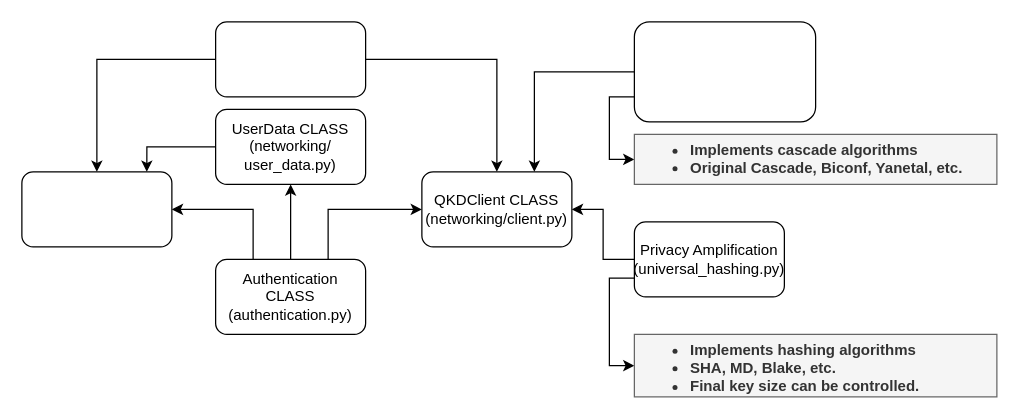
This 1019x419 diagram has some shape labels left out. The shapes that lost their labels are listed below. From the top down, each one's centre as x and y in pixels, then its label:
the point at 290,59: Key CLASS (key.py)
the point at 724,71: Reconciliation CLASS (error_correction/ cascade/ reconciliation.py)
the point at 96,209: QKDServer CLASS (networking/server.py)
